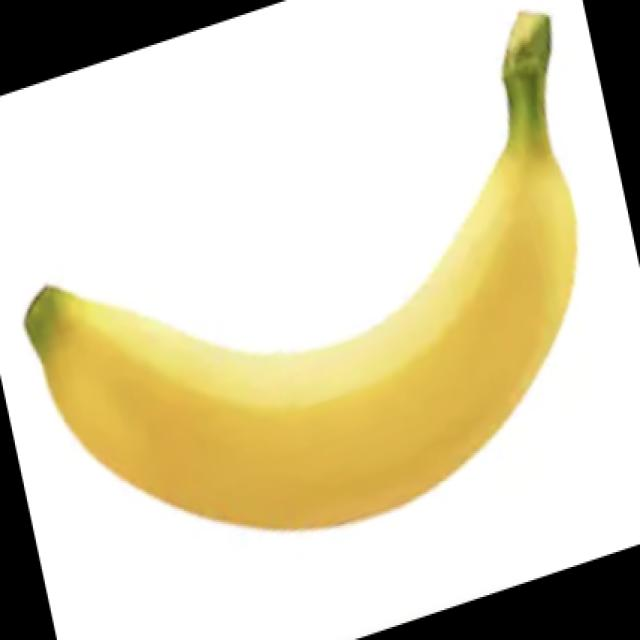god quality banana: (25, 13, 579, 529)
